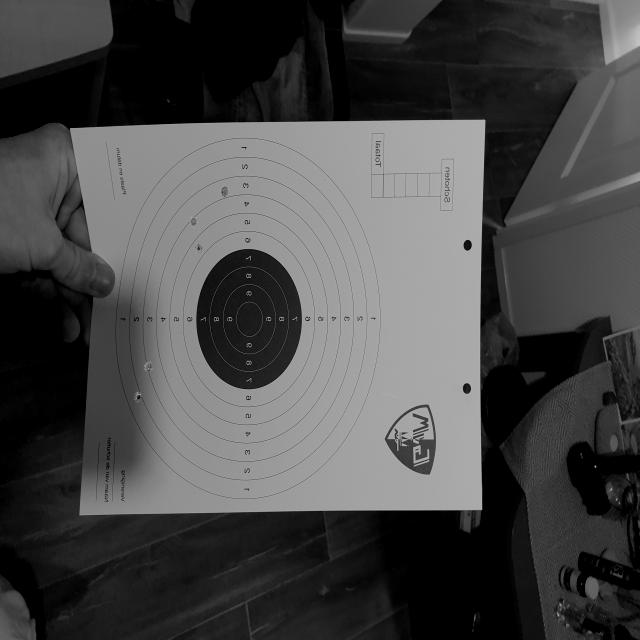2: (134, 392, 142, 404)
3: (221, 185, 230, 198), (144, 360, 153, 372)
4: (190, 216, 197, 227)
5: (194, 240, 204, 254)
Target: (115, 134, 381, 498)
black_contour: (196, 248, 302, 388)
